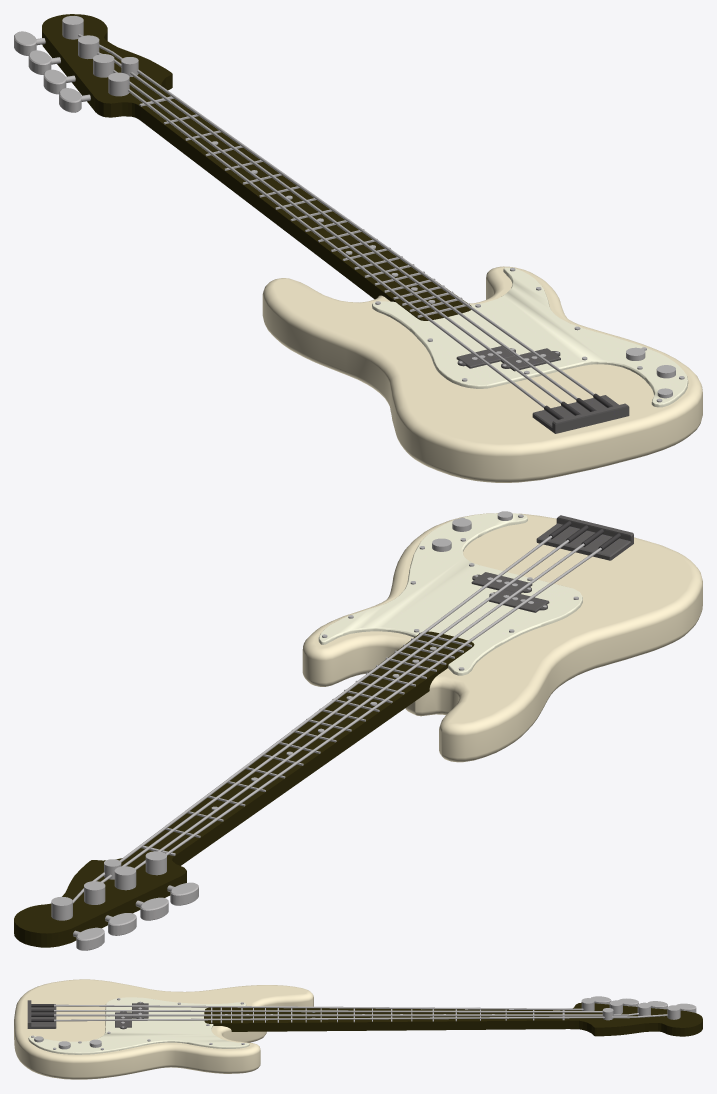
Rendered from basse.glb.
The picture shows the model from 3 angles, top to bottom: view 1: azimuth 30°, elevation 25°; view 2: azimuth 150°, elevation 25°; view 3: azimuth 270°, elevation 25°; orthographic projection. The views are drawn at different scales.
Parts seen in each view (by area): view 1: Object_2; view 2: Object_2; view 3: Object_2.
Boxes of the visible parts, left/top/right/bottom form: Object_2: left=14, top=14, right=702, bottom=482; Object_2: left=14, top=511, right=702, bottom=950; Object_2: left=14, top=979, right=702, bottom=1079.
Size of the model in its own units: 24.93 by 5.19 by 89.13.
Materials: 1 (1 with a texture image).
